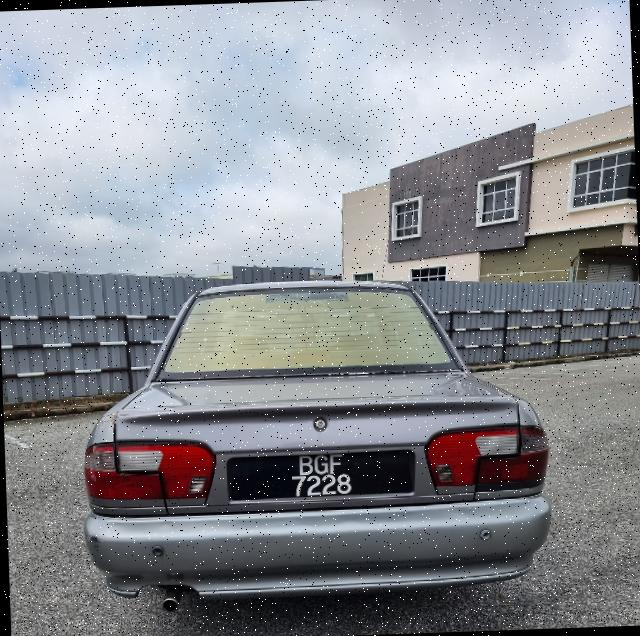License_Plate: (242, 445, 396, 508)
car: (66, 270, 559, 618)
